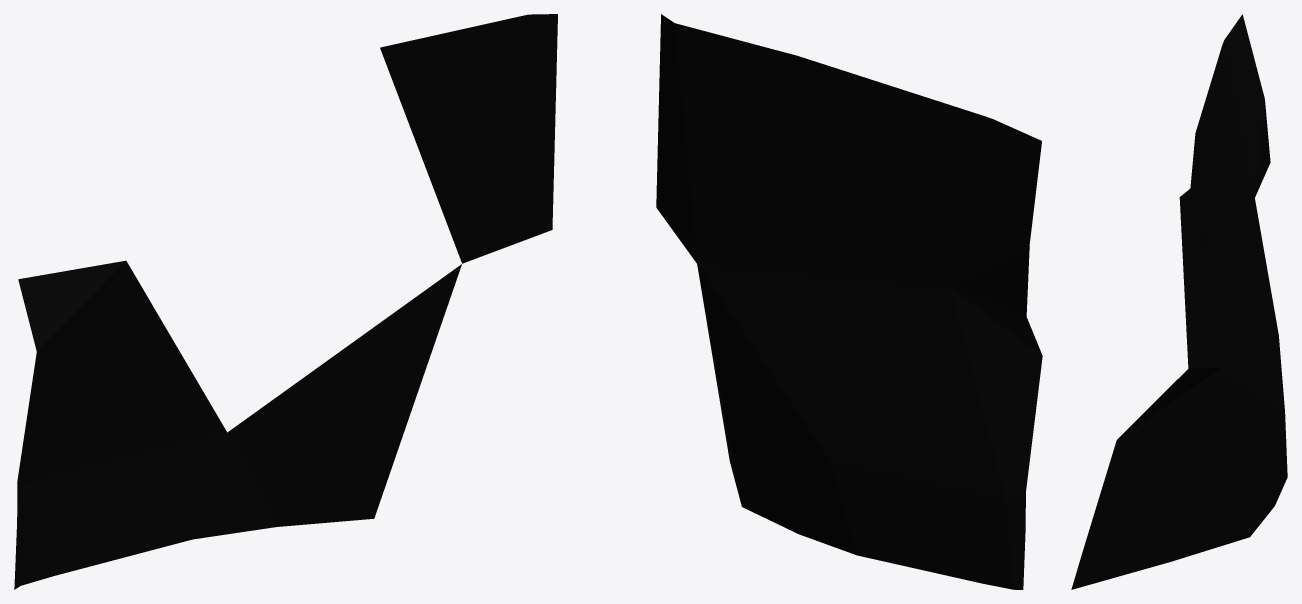
The picture shows the model from 3 angles, left to right: view 1: azimuth 30°, elevation 25°; view 2: azimuth 150°, elevation 25°; view 3: azimuth 270°, elevation 25°; orthographic projection. The views are drawn at different scales.
Size of the model in its own units: 2.95 by 2.95 by 1.47.
Materials: 3 (3 with a texture image).
